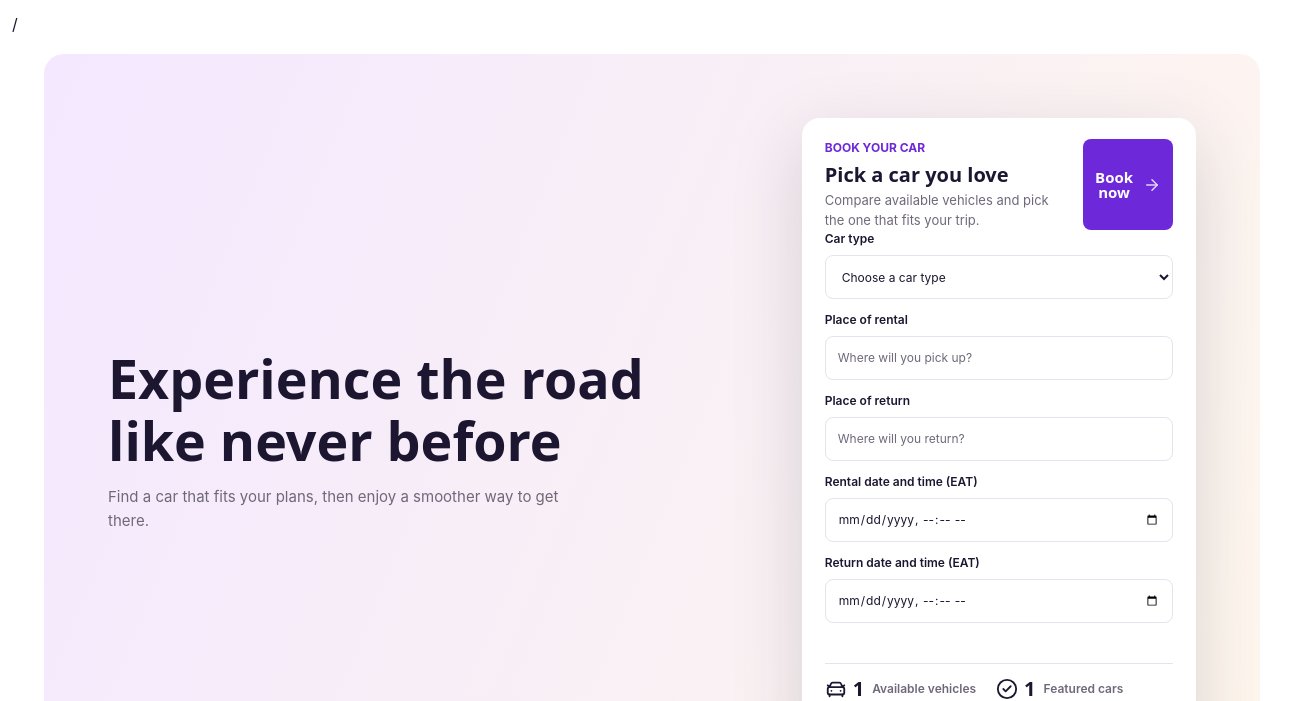
home page booking form › rejects a return that is not after the rental time
Select "SUV" in the dropdown labelled "Car type" at [999, 277], box [825,255,1173,299]
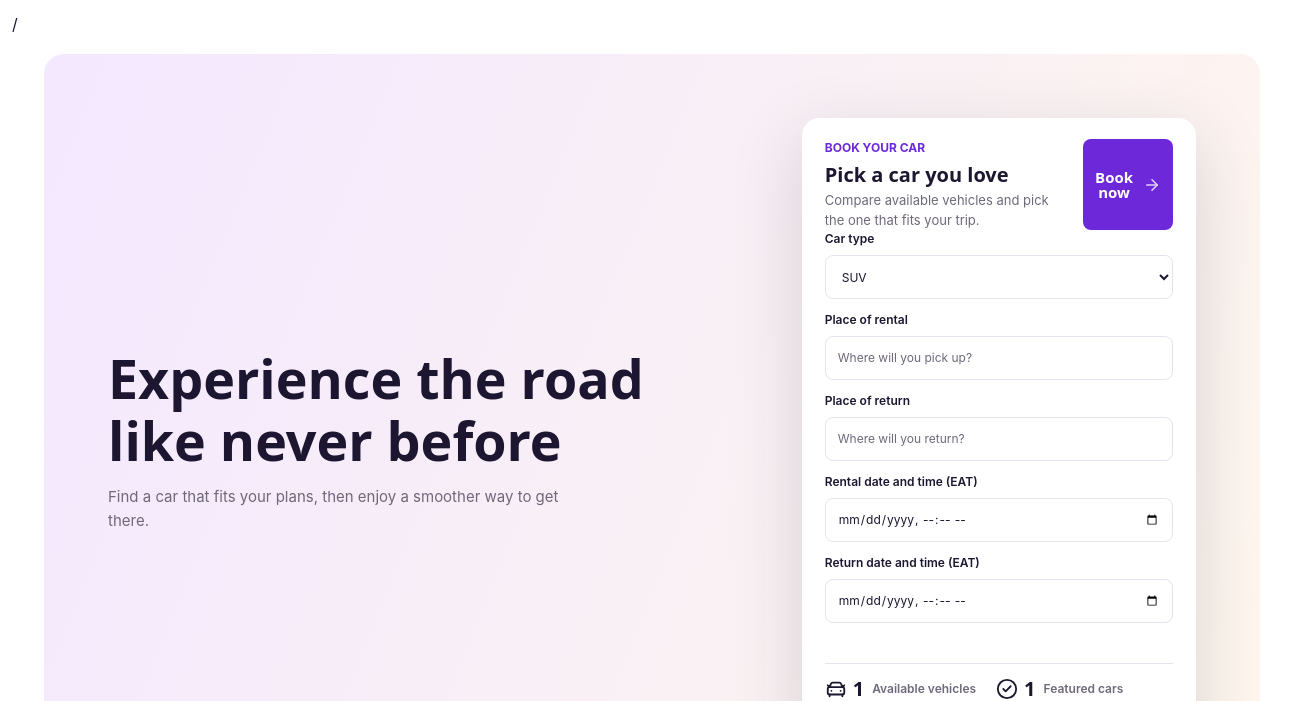
Type "Nairobi CBD" into the field labelled "Place of rental" at [999, 358], box [825,336,1173,380]
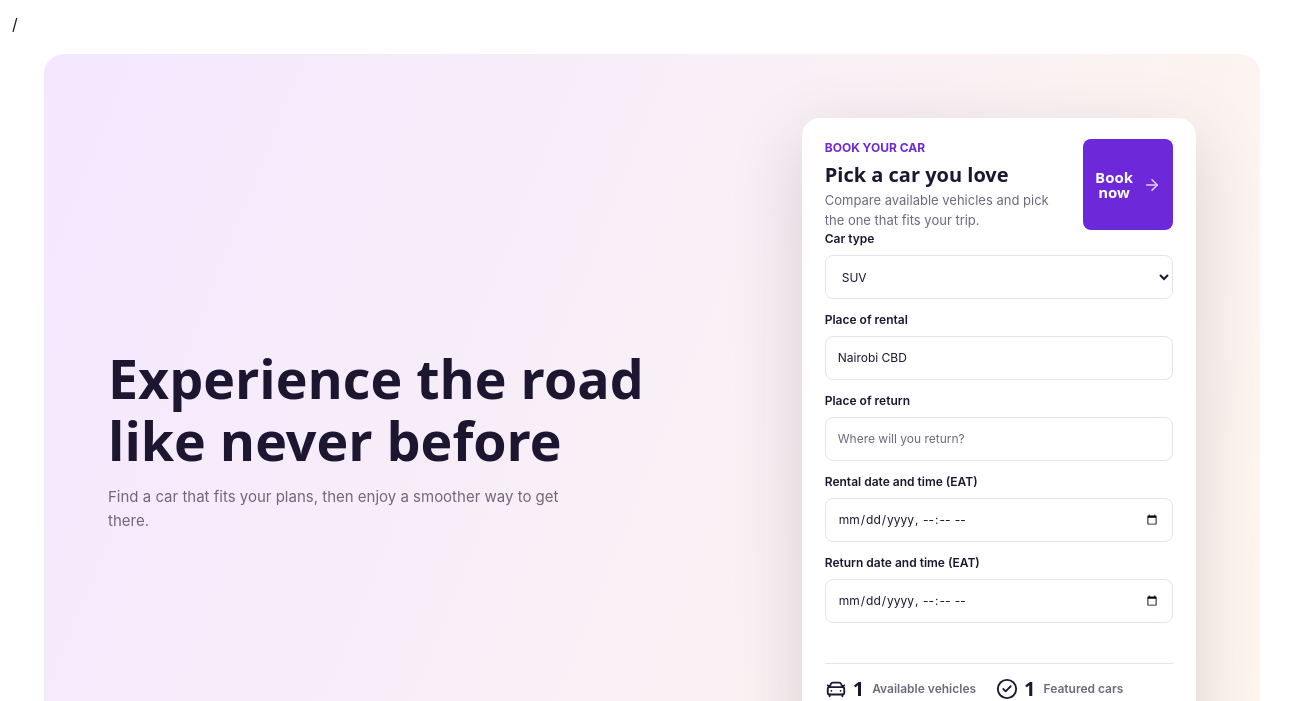
Type "Westlands" into the field labelled "Place of return" at [999, 439], box [825,417,1173,461]
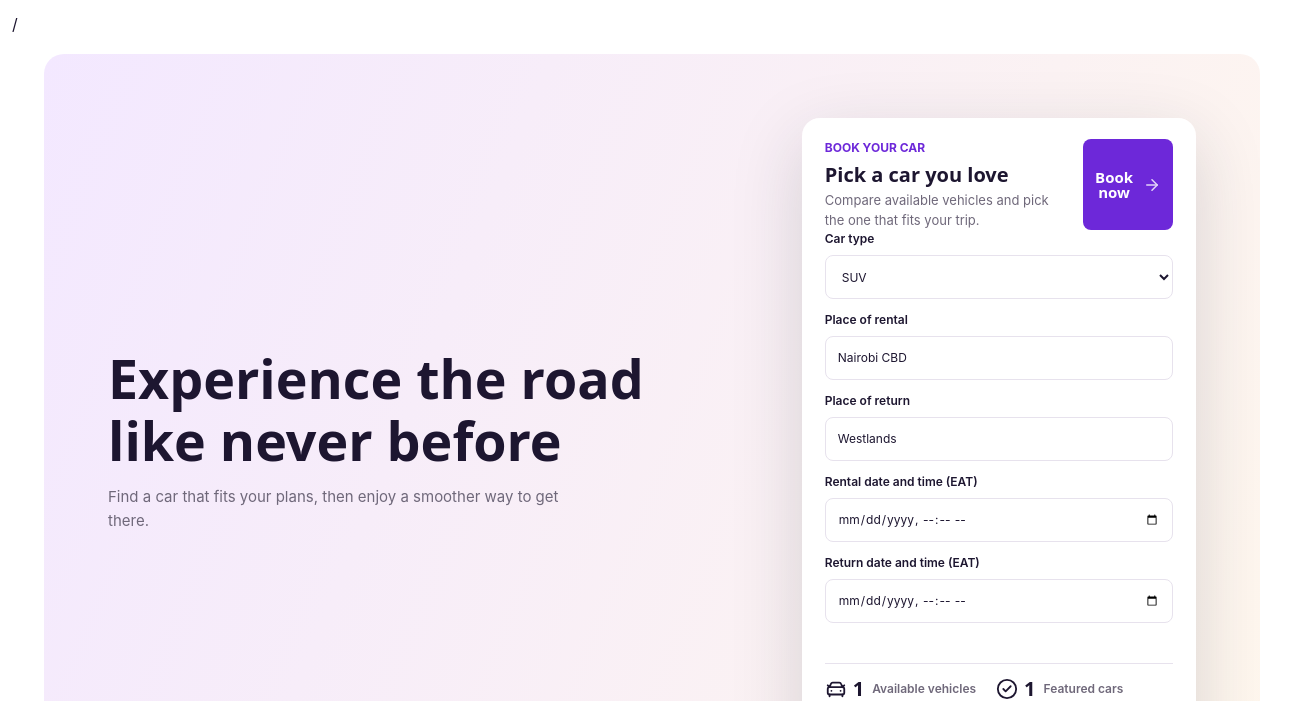
Type "2027-01-05T10:30" into the field labelled "Rental date and time (EAT)" at [999, 520], box [825,498,1173,542]
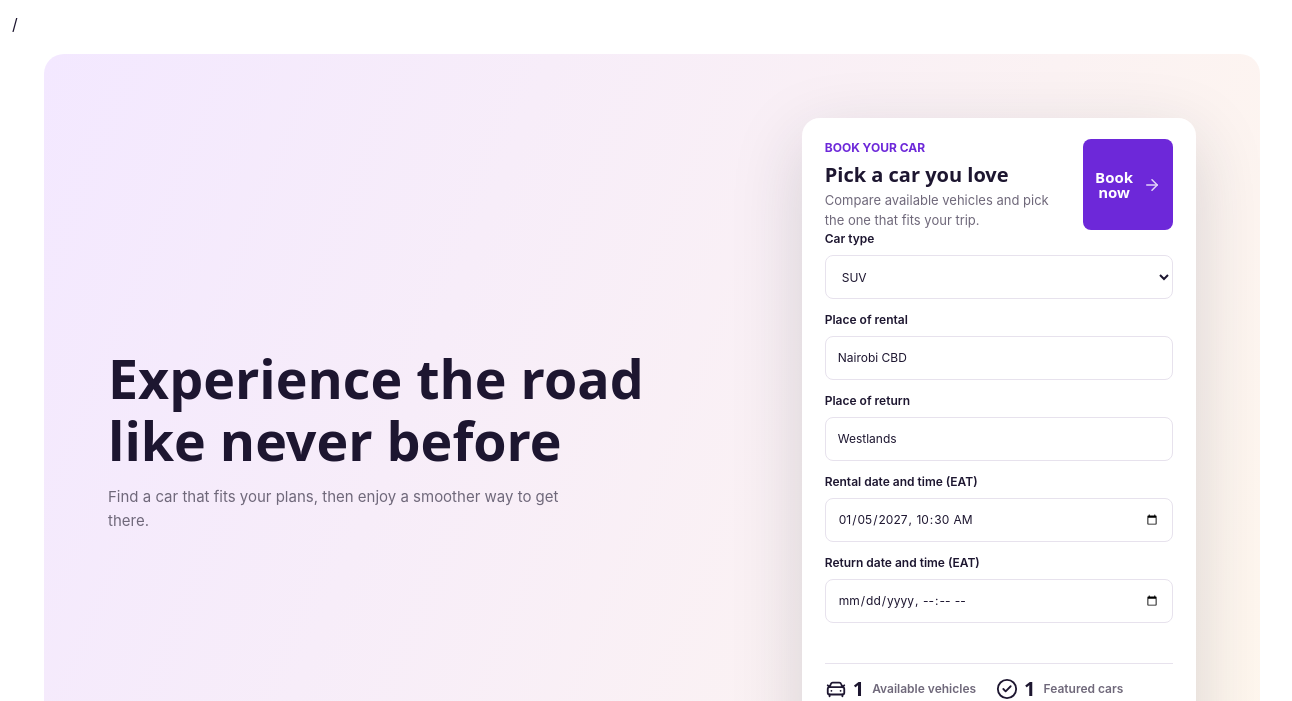
Type "2027-01-02T10:30" into the field labelled "Return date and time (EAT)" at [999, 601], box [825,579,1173,623]
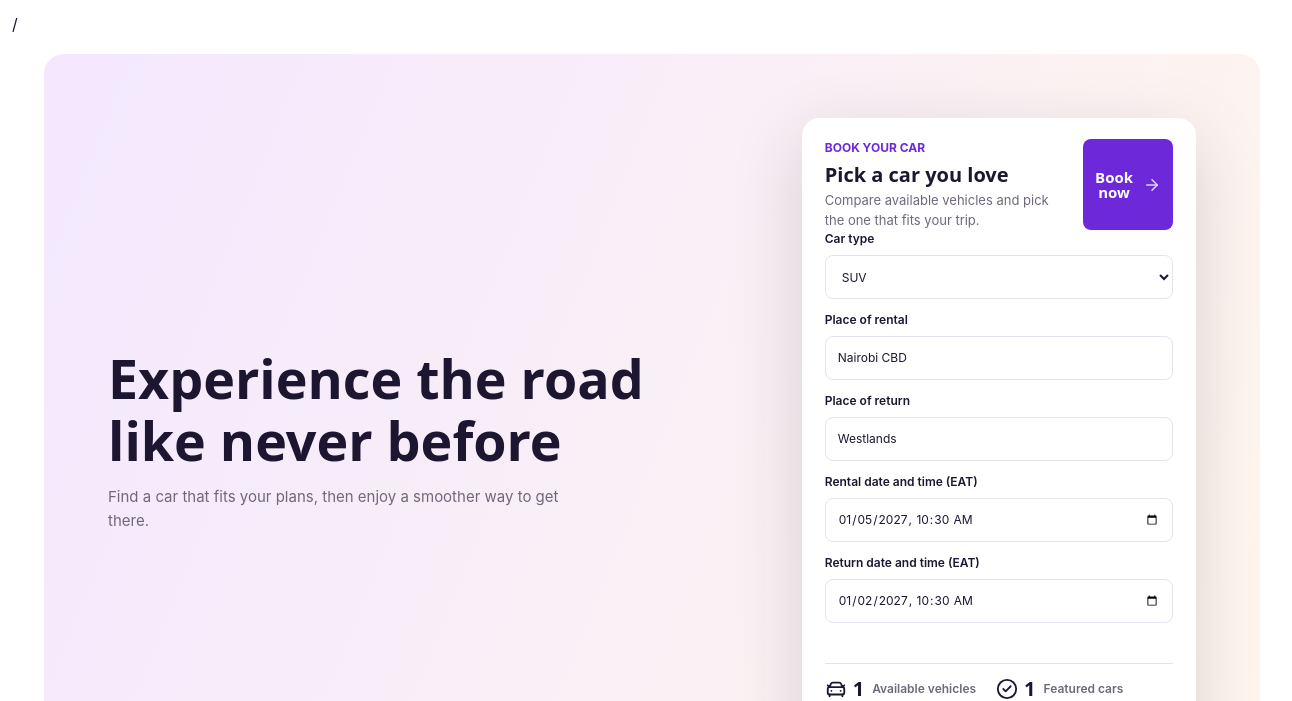
Click the button "Book now" at [1128, 184], box [1083,139,1173,230]
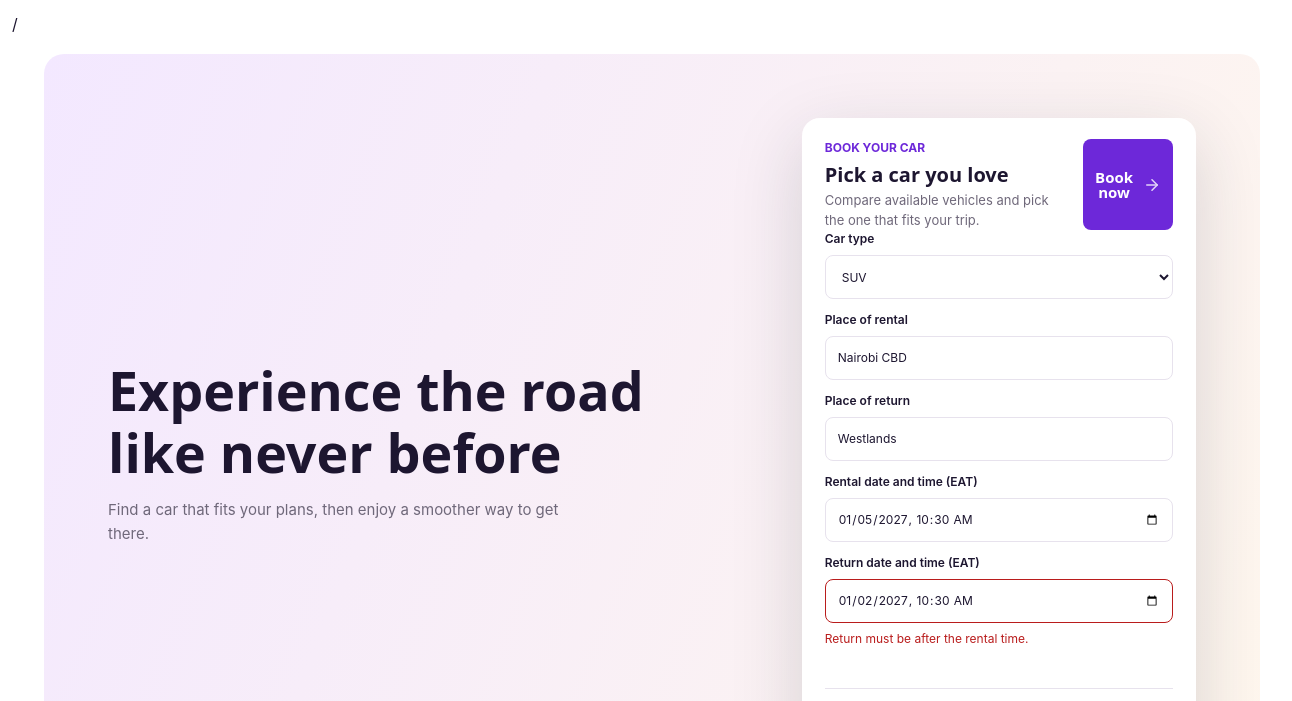
Now the text "Return must be after the rental time." is shown, box [825,631,1028,646]
